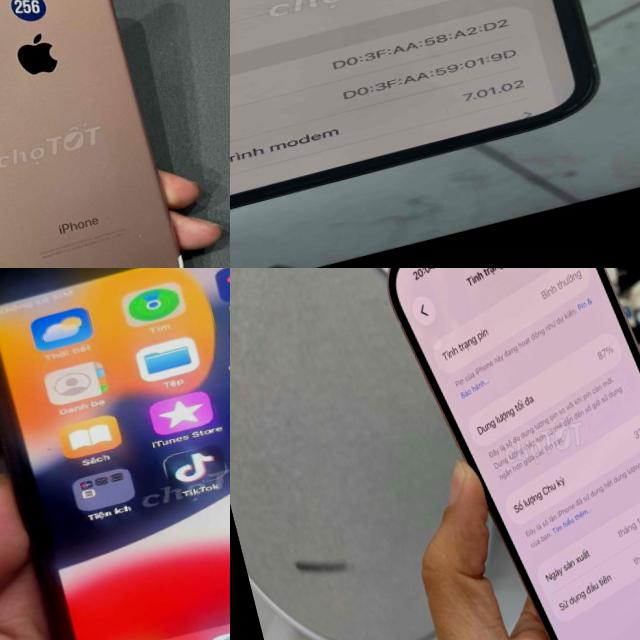gen_11: (230, 0, 612, 245)
gen_15: (359, 268, 640, 640)
gen_7_8: (0, 268, 230, 640), (0, 0, 202, 268)
